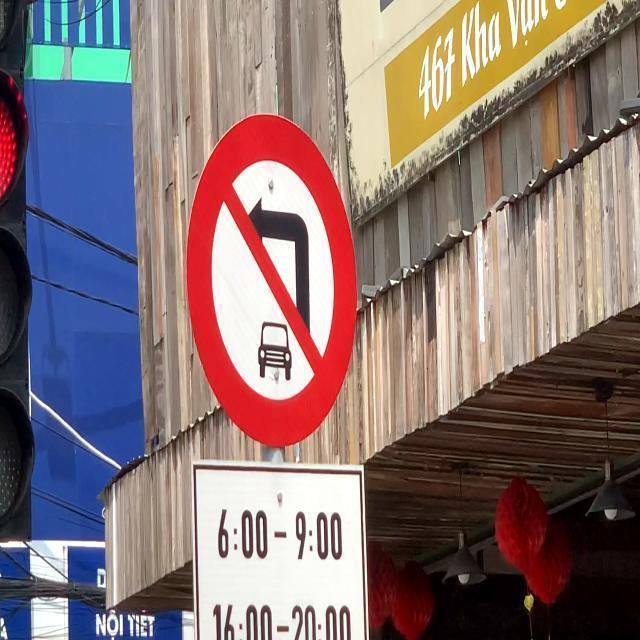123a-cam-re-trai: (191, 112, 353, 444)
